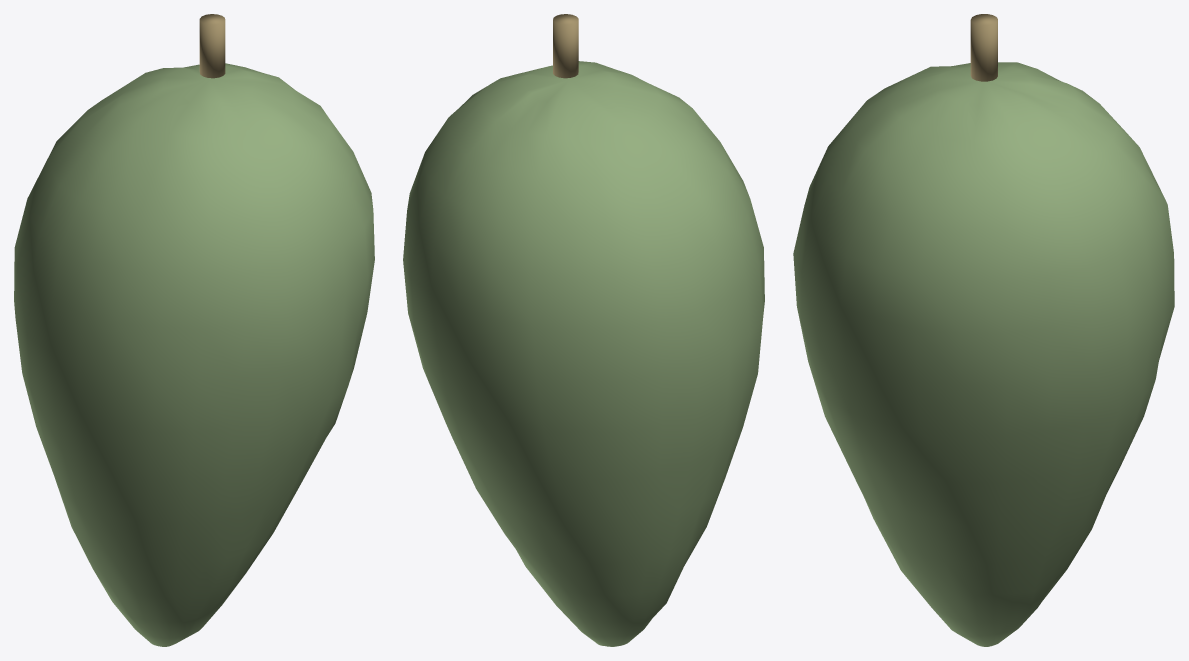
The model's file is Avocado.glb.
The picture shows the model from 3 angles, left to right: view 1: azimuth 30°, elevation 25°; view 2: azimuth 150°, elevation 25°; view 3: azimuth 270°, elevation 25°; orthographic projection. The views are drawn at different scales.
Parts seen in each view (by area): view 1: Avocado; view 2: Avocado; view 3: Avocado.
Boxes of the visible parts, x1,y1,x2,y2 form: Avocado: [14, 14, 374, 646]; Avocado: [403, 14, 764, 646]; Avocado: [793, 14, 1174, 646].
Size of the model in its own units: 0.6148 by 1.15 by 0.6134.
